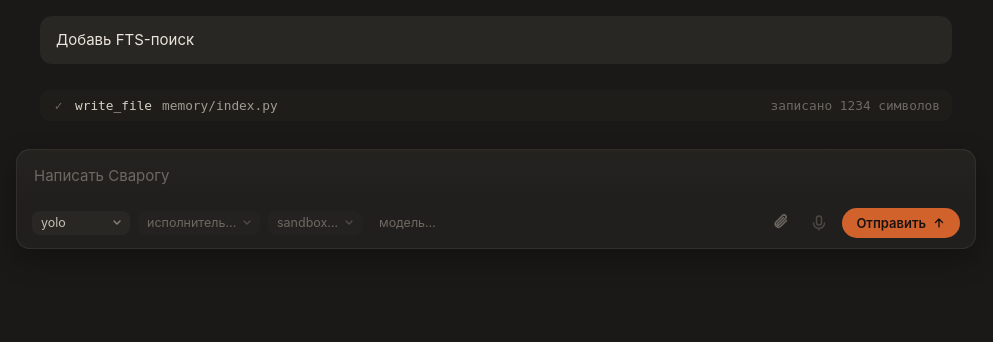
Scenario: ошибки отправки › показывает отказ сервера, а не молчит
Check: the text "Добавь FTS-поиск" is shown, box 56,30 -> 194,49
Type "поехали" into the dropdown labelled "Написать Сварогу" at (496, 176), box 32,163 -> 960,189
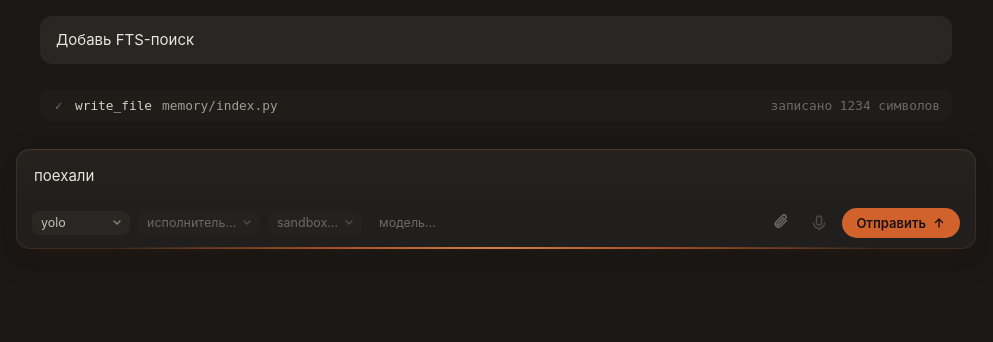
Click the button "Отправить" at (901, 223), box 842,208 -> 960,238
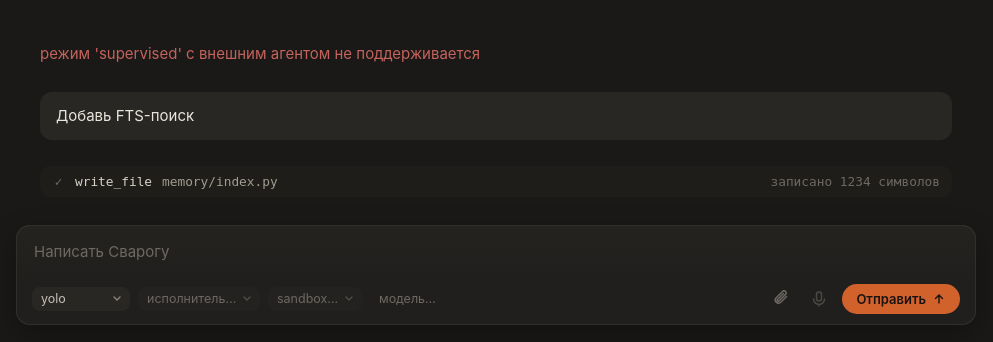
Check: the text "поехали" is not shown
Check: the text "режим 'supervised' с внешним агентом не поддерживается" is shown, box 40,44 -> 480,63
